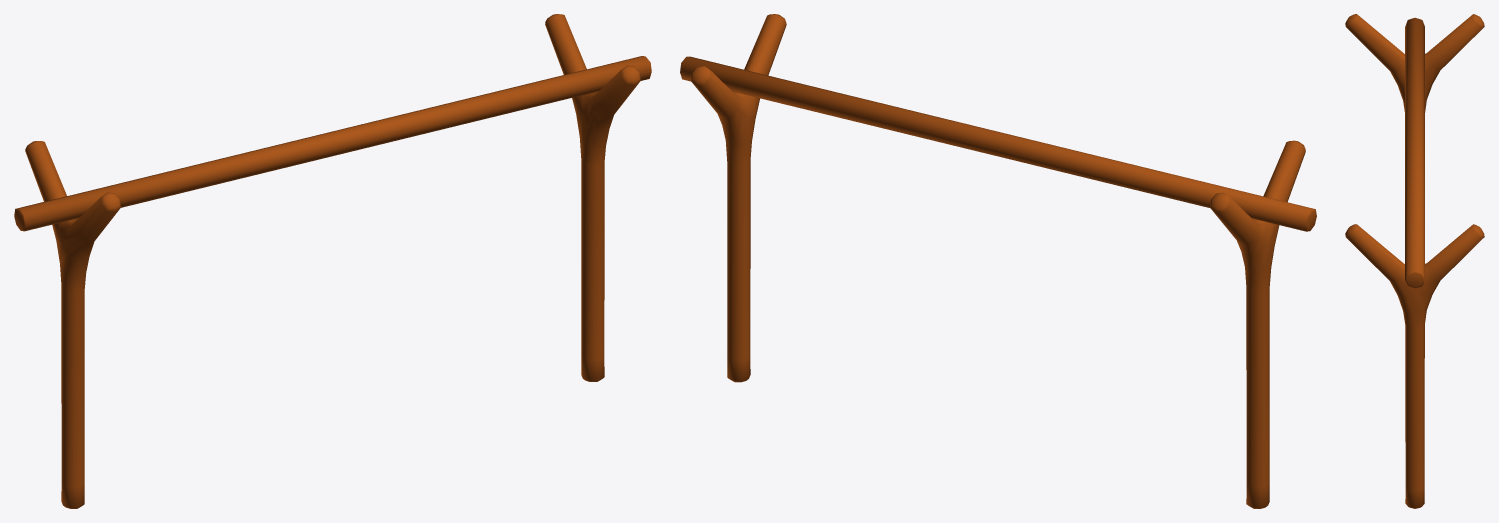
File: CookingSet_02.fbx
The picture shows the model from 3 angles, left to right: view 1: azimuth 30°, elevation 25°; view 2: azimuth 150°, elevation 25°; view 3: azimuth 270°, elevation 25°; orthographic projection. The views are drawn at different scales.
Parts seen in each view (by area): view 1: CookingSet_02; view 2: CookingSet_02; view 3: CookingSet_02.
Boxes of the visible parts, x1,y1,x2,y2 form: CookingSet_02: (14,14,651,508); CookingSet_02: (680,14,1316,508); CookingSet_02: (1345,14,1484,508).
Size of the model in its own units: 200 by 104 by 46.31.
